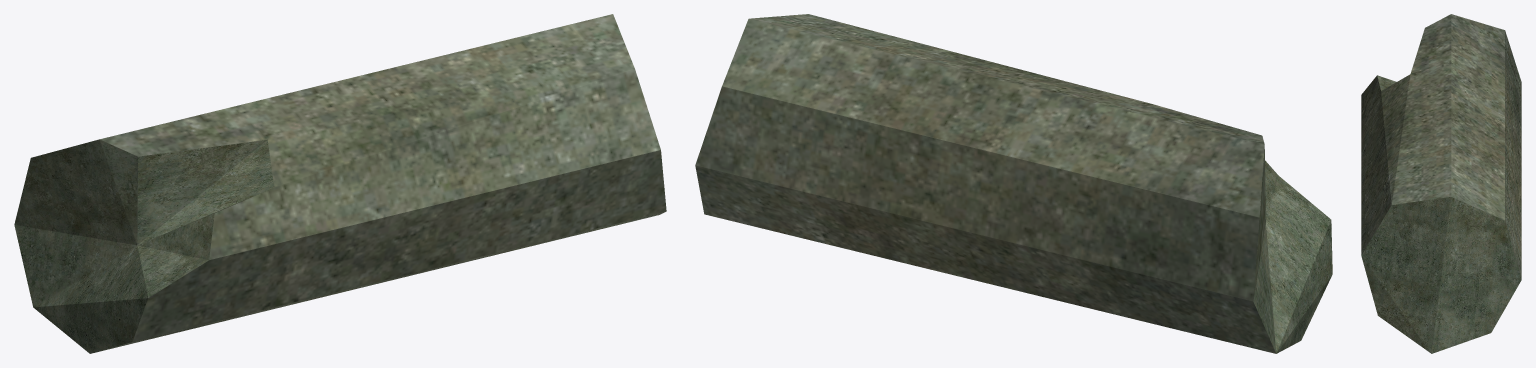
Rendered from thm_dant_jedi_temple_pillar_fallen_l1.fbx.
3 views of the same model, side by side, from view 1: azimuth 30°, elevation 25°; view 2: azimuth 150°, elevation 25°; view 3: azimuth 270°, elevation 25° (orthographic). The views are drawn at different scales.
Visible parts, largest first — view 1: mesh_node; view 2: mesh_node; view 3: mesh_node.
Part boxes in pixels (x1,y1,x2,y2): mesh_node: (14, 14, 666, 353); mesh_node: (695, 14, 1332, 353); mesh_node: (1361, 14, 1521, 353).
Bounding box in the file's own units: 2.83 × 0.919 × 0.9189.
Materials: 2 (2 with a texture image).
